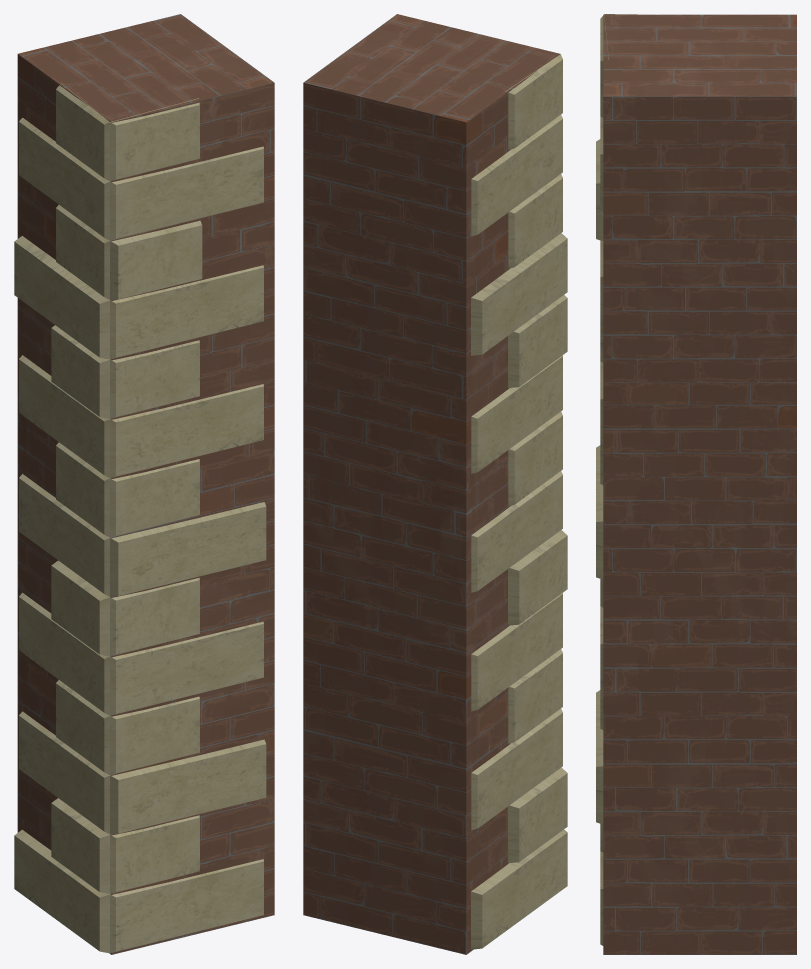
File: Brick_Column_TrimBricks.gltf
3 renders of one model, left to right at view 1: azimuth 30°, elevation 25°; view 2: azimuth 150°, elevation 25°; view 3: azimuth 270°, elevation 25°, orthographic. The views are drawn at different scales.
Parts seen in each view (by area): view 1: Brick_Column_TrimBricks; view 2: Brick_Column_TrimBricks; view 3: Brick_Column_TrimBricks.
Boxes of the visible parts, box(x1,y1,x2,y2) form: Brick_Column_TrimBricks: box(14, 14, 274, 954); Brick_Column_TrimBricks: box(303, 14, 567, 954); Brick_Column_TrimBricks: box(596, 14, 796, 954).
Bounding box in the file's own units: 0.6514 × 3 × 0.636.
Materials: 2 (2 with a texture image).
